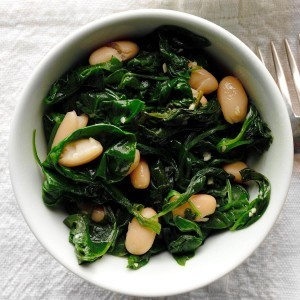spinach_brain food: (85, 66, 174, 149)
